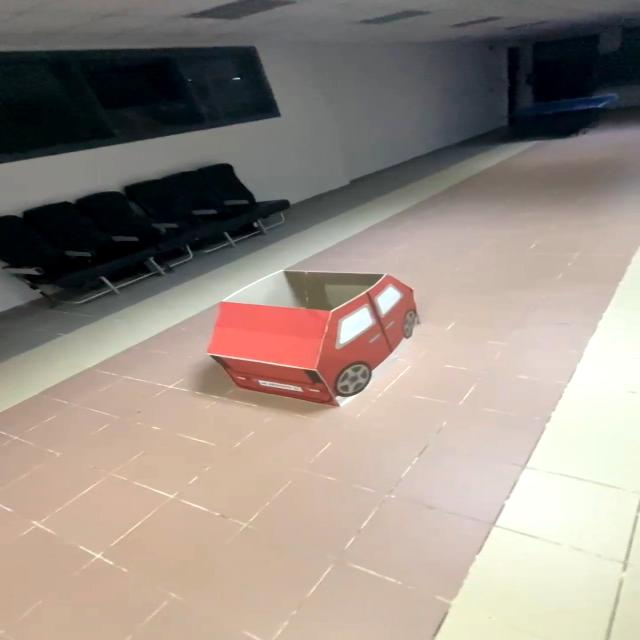red_car: (194, 257, 455, 426)
